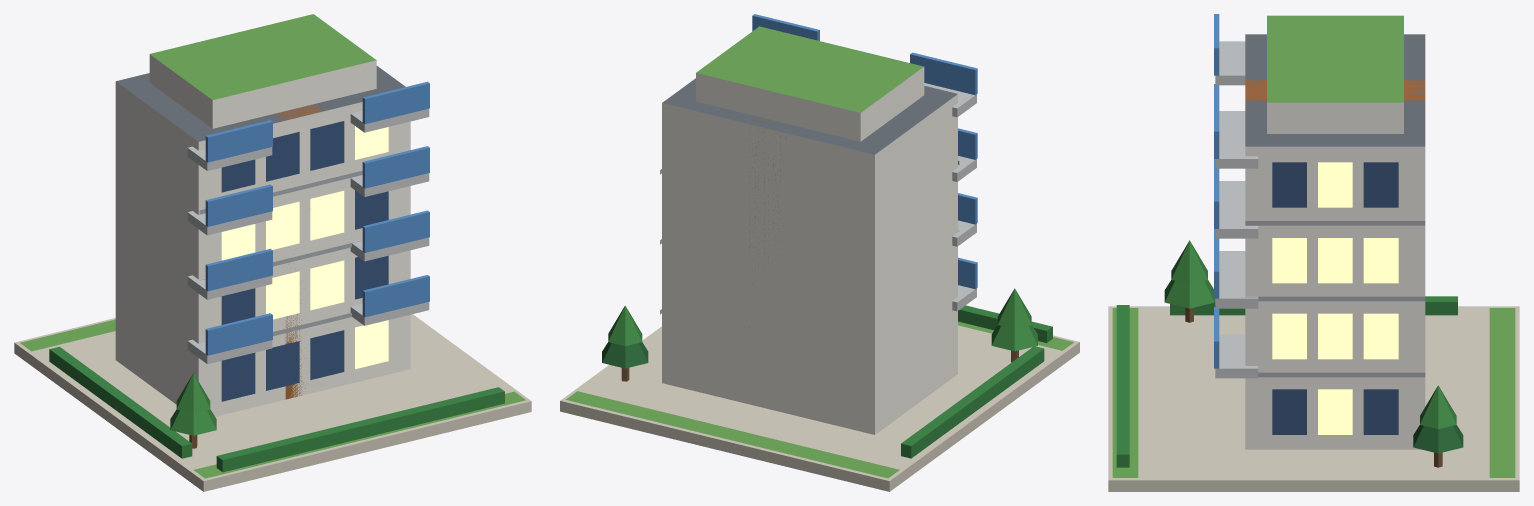
3 renders of one model, left to right at view 1: azimuth 30°, elevation 25°; view 2: azimuth 150°, elevation 25°; view 3: azimuth 270°, elevation 25°, orthographic. The views are drawn at different scales.
Visible parts, largest first — view 1: b08; view 2: b08; view 3: b08.
Boxes of the visible parts, x1,y1,x2,y2 form: b08: (14,14,531,491); b08: (560,14,1079,491); b08: (1108,14,1519,491).
Size of the model in its own units: 0.96 by 0.89 by 0.96.
